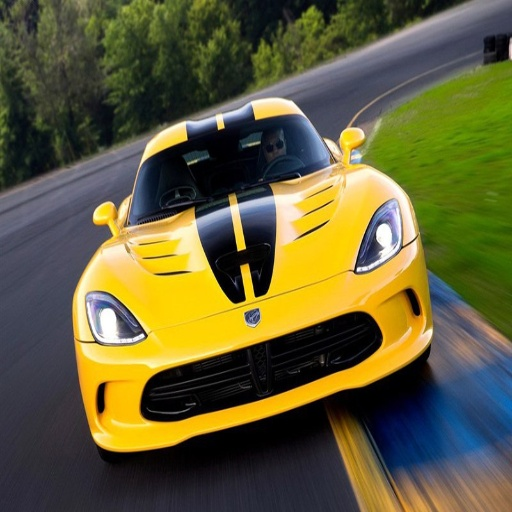front_bumper: (79, 221, 420, 446)
front_right_light: (80, 291, 143, 344)
hood: (297, 164, 397, 234), (119, 221, 207, 273)
